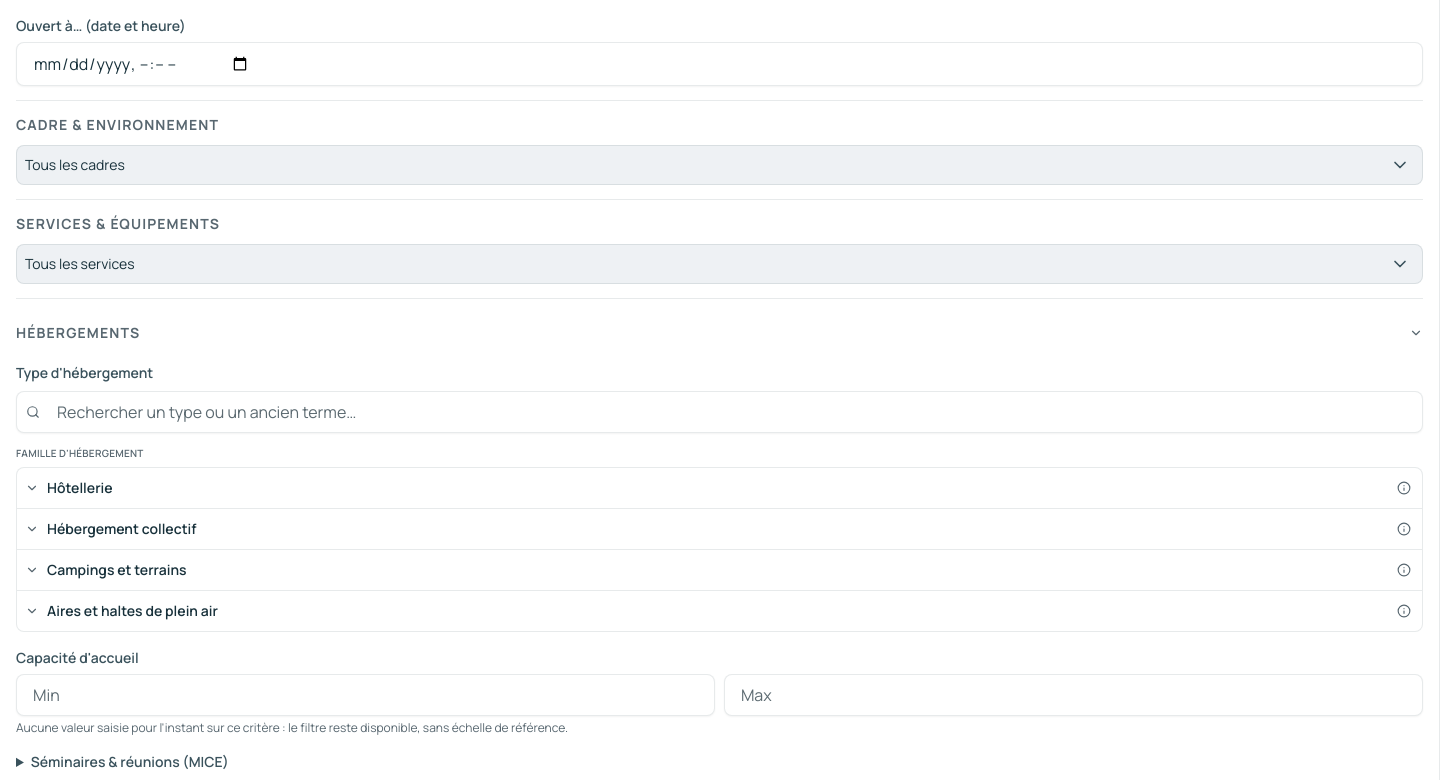
FiltersPanel — sections type-spécifiques repliables › §201 — hiérarchie v2 des hébergements › sépare Aire naturelle (campings) et Aire d'accueil camping-car (aires et haltes)
(page scrolled)
Step 1. Click the button "Campings et terrains" → coordinates (117, 570), box [17,550,1422,590]
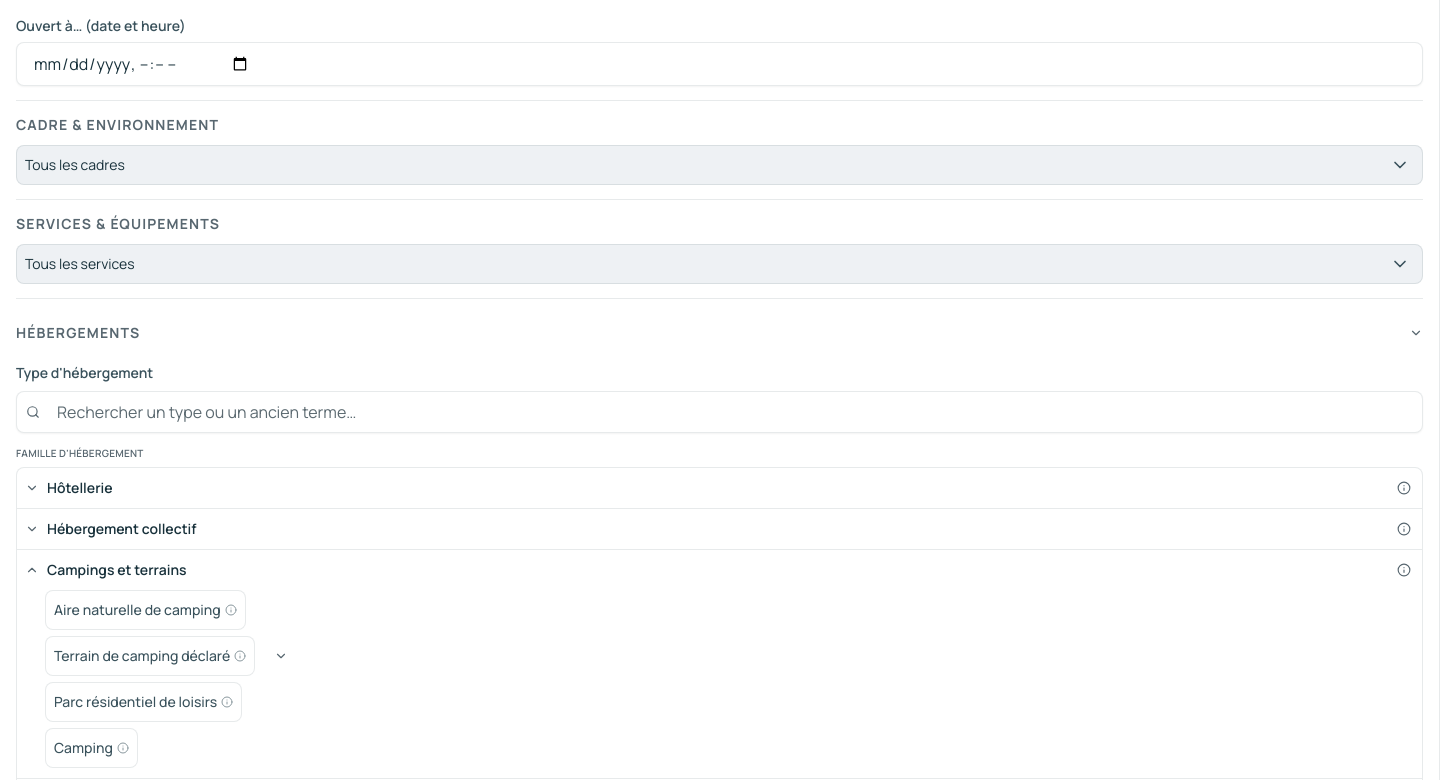
Expected: the button "Aire d'accueil camping-car" is not shown
Expected: the button "Aire naturelle de camping" is shown, [45,590,246,630]
Step 2. Click the button "Campings et terrains" → coordinates (117, 570), box [17,550,1422,590]
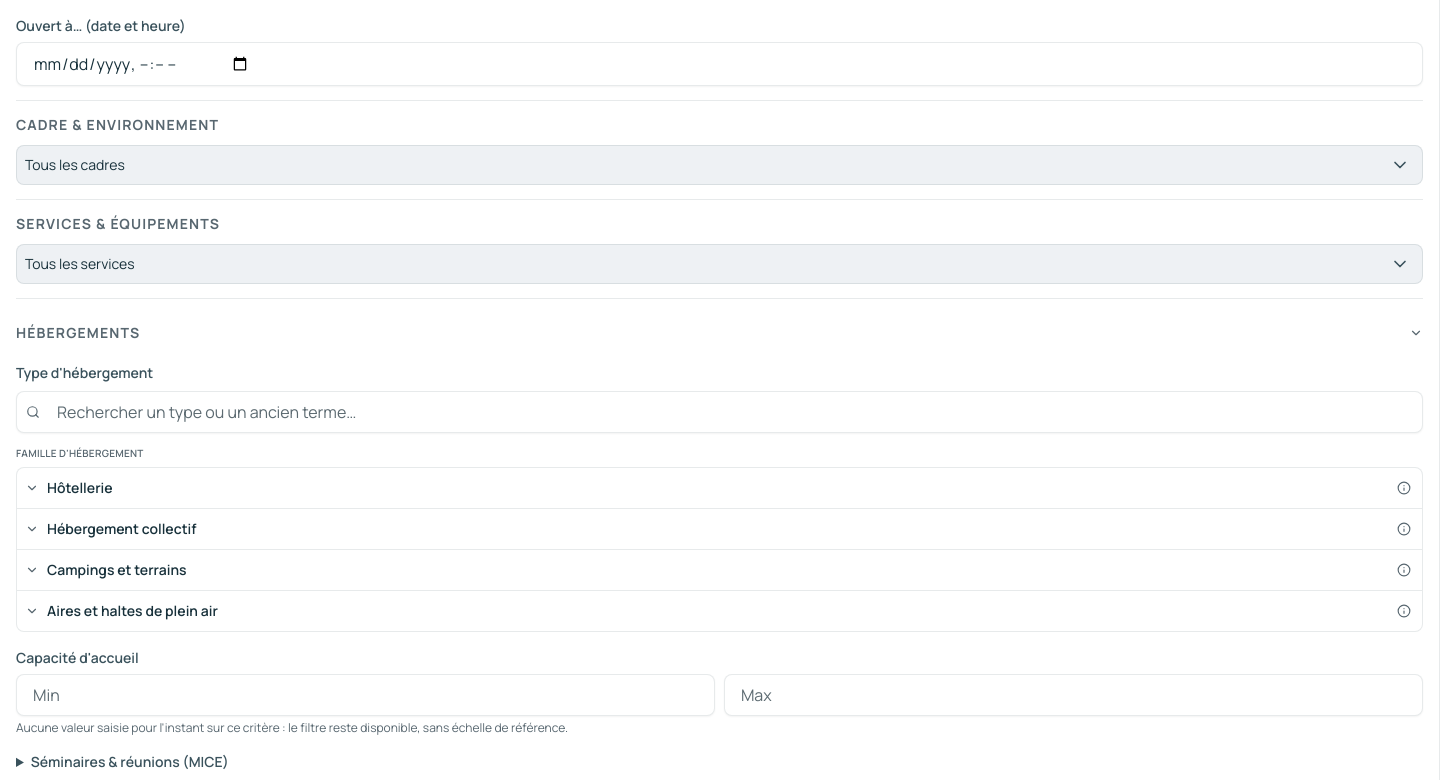
Step 3. Click the button "Aires et haltes de plein air" → coordinates (132, 610), box [17,591,1422,631]
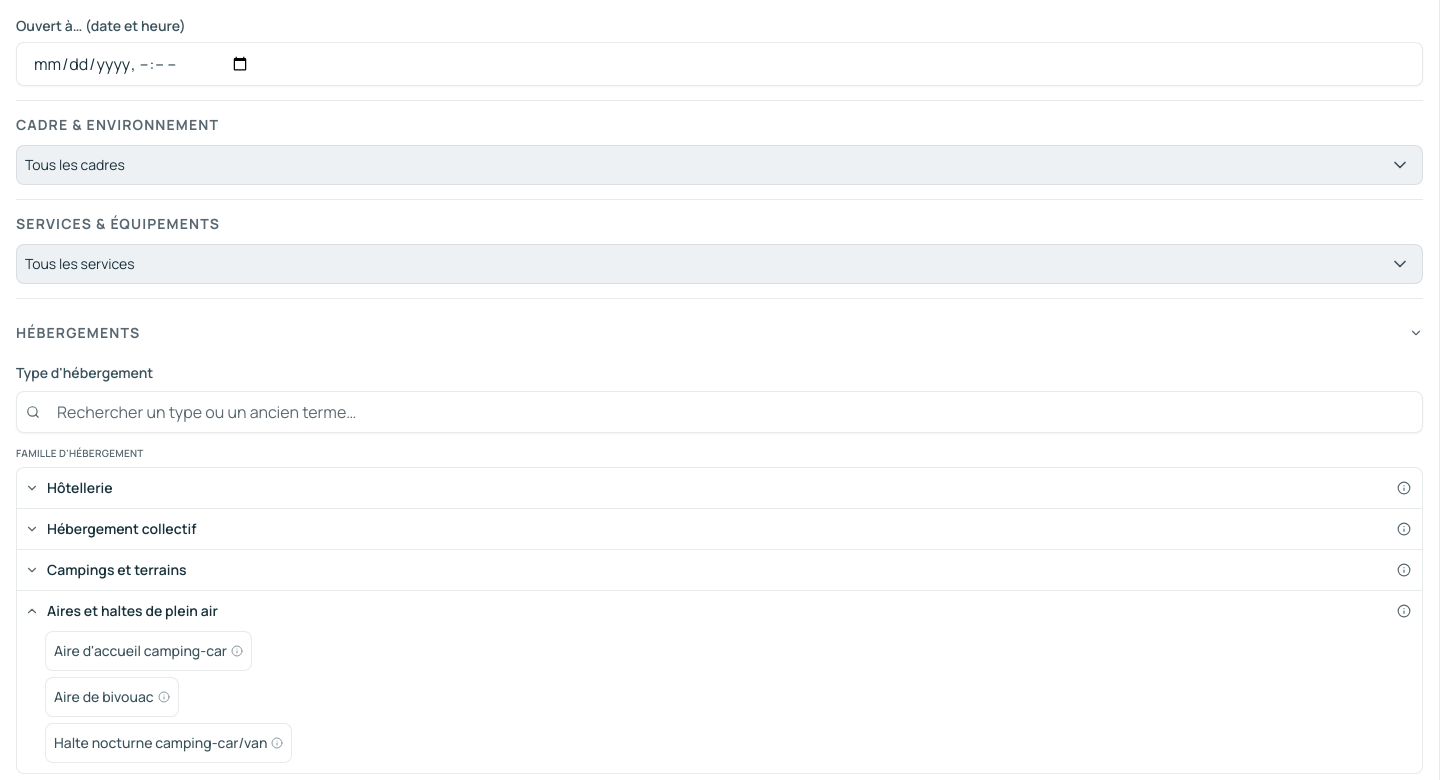
Expected: the button "Aire d'accueil camping-car" is shown, [45,631,252,671]
Expected: the button "Aire de bivouac" is shown, [45,677,179,717]
Expected: the button "Halte nocturne camping-car/van" is shown, [45,723,292,763]
